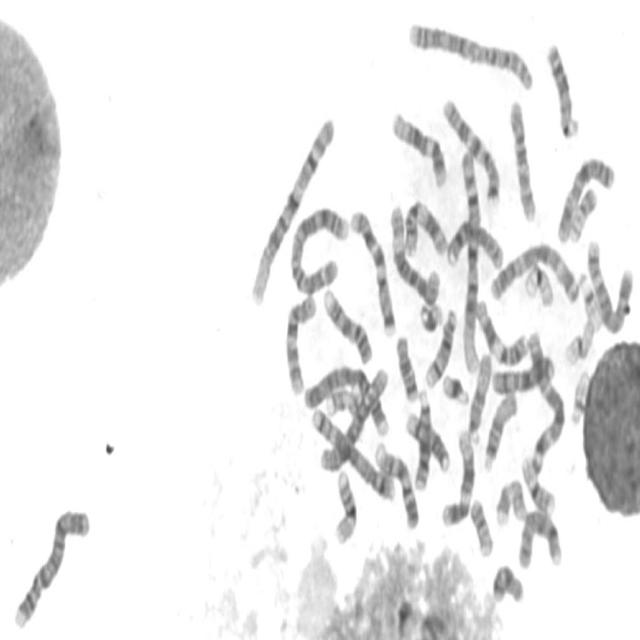A1: (247, 107, 338, 308), (457, 139, 483, 376)
A2: (404, 12, 536, 92), (286, 196, 352, 298)
A3: (486, 233, 581, 306), (524, 323, 567, 476)
B4: (9, 498, 93, 633), (301, 354, 392, 437)
B5: (308, 399, 398, 504), (584, 230, 636, 336)
C10: (506, 90, 539, 224), (281, 286, 319, 398)
C11: (472, 290, 530, 368), (401, 192, 449, 258)
C12: (388, 102, 450, 189), (439, 421, 477, 529)
C6: (314, 356, 391, 474), (386, 196, 442, 308)
C7: (439, 89, 503, 205), (347, 201, 399, 338)
C8: (444, 212, 506, 271), (515, 501, 565, 573)
C9: (371, 432, 422, 532), (320, 279, 375, 367)
D13: (544, 32, 582, 141), (411, 381, 434, 494)
D14: (402, 403, 452, 475), (422, 301, 459, 390)
D15: (480, 384, 520, 473), (464, 344, 494, 446)
E16: (518, 448, 558, 516), (330, 460, 360, 547)
E17: (493, 471, 529, 528), (323, 381, 365, 418)
E18: (392, 326, 421, 404), (489, 556, 527, 606)
F19: (561, 310, 599, 368), (521, 254, 557, 308)
F20: (466, 491, 496, 558), (566, 181, 598, 243)
G21: (439, 366, 472, 407), (416, 294, 445, 334)
G22: (576, 264, 604, 326), (567, 361, 591, 427)
X: (554, 148, 618, 245), (488, 348, 558, 396)
